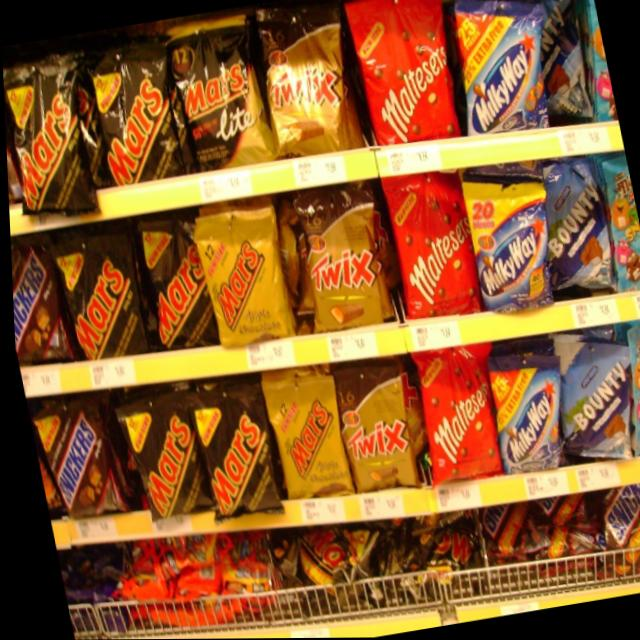q142: (29, 400, 127, 529), (8, 235, 74, 370)
